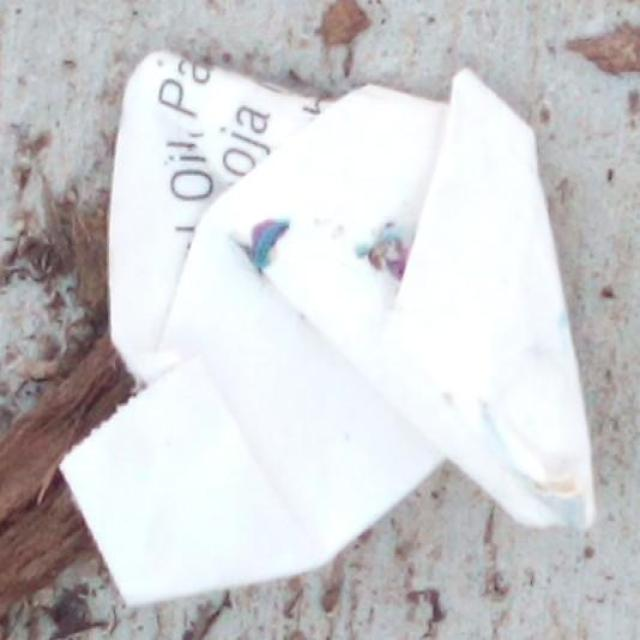litter: (56, 46, 600, 607)
